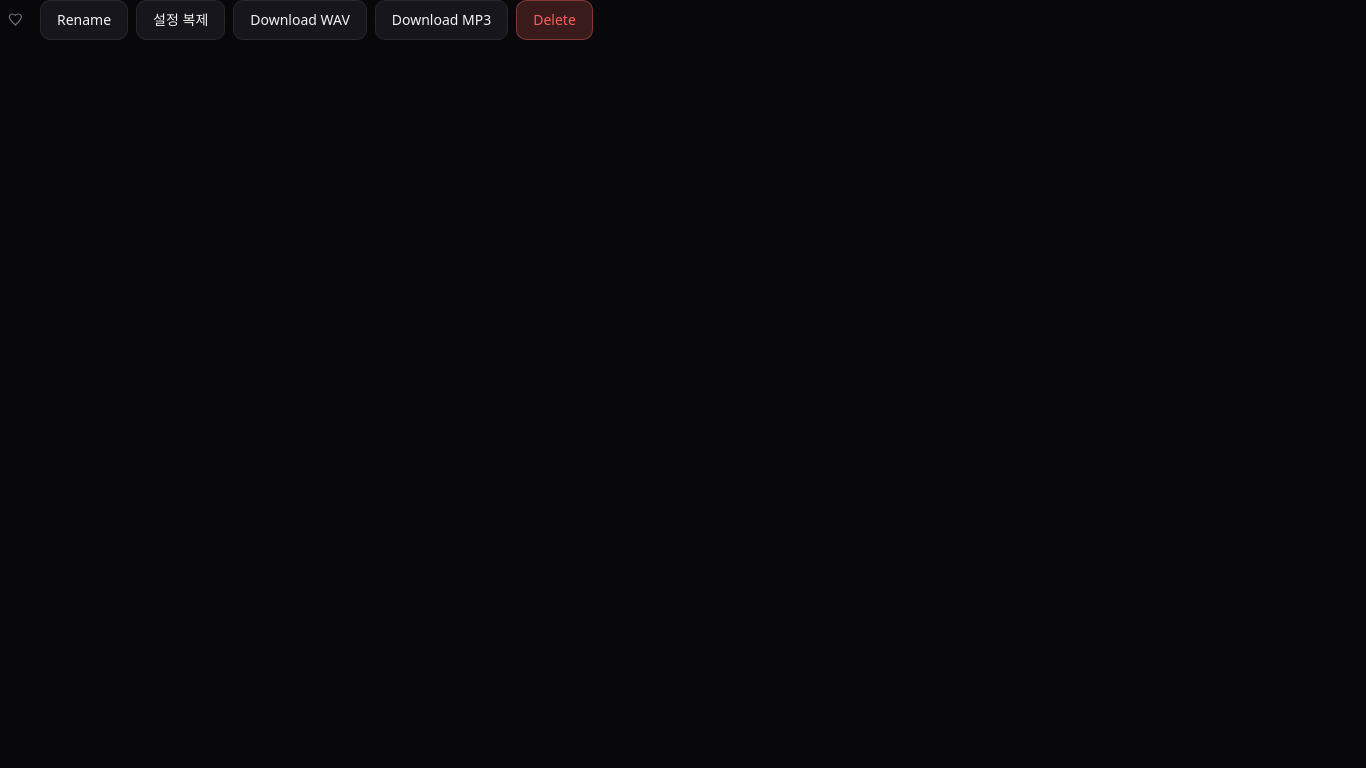
Test: deleting a song with derived versions › says why, and does not pretend the song is gone
Click the button "Delete".
click(554, 20)  # box [516, 0, 593, 40]
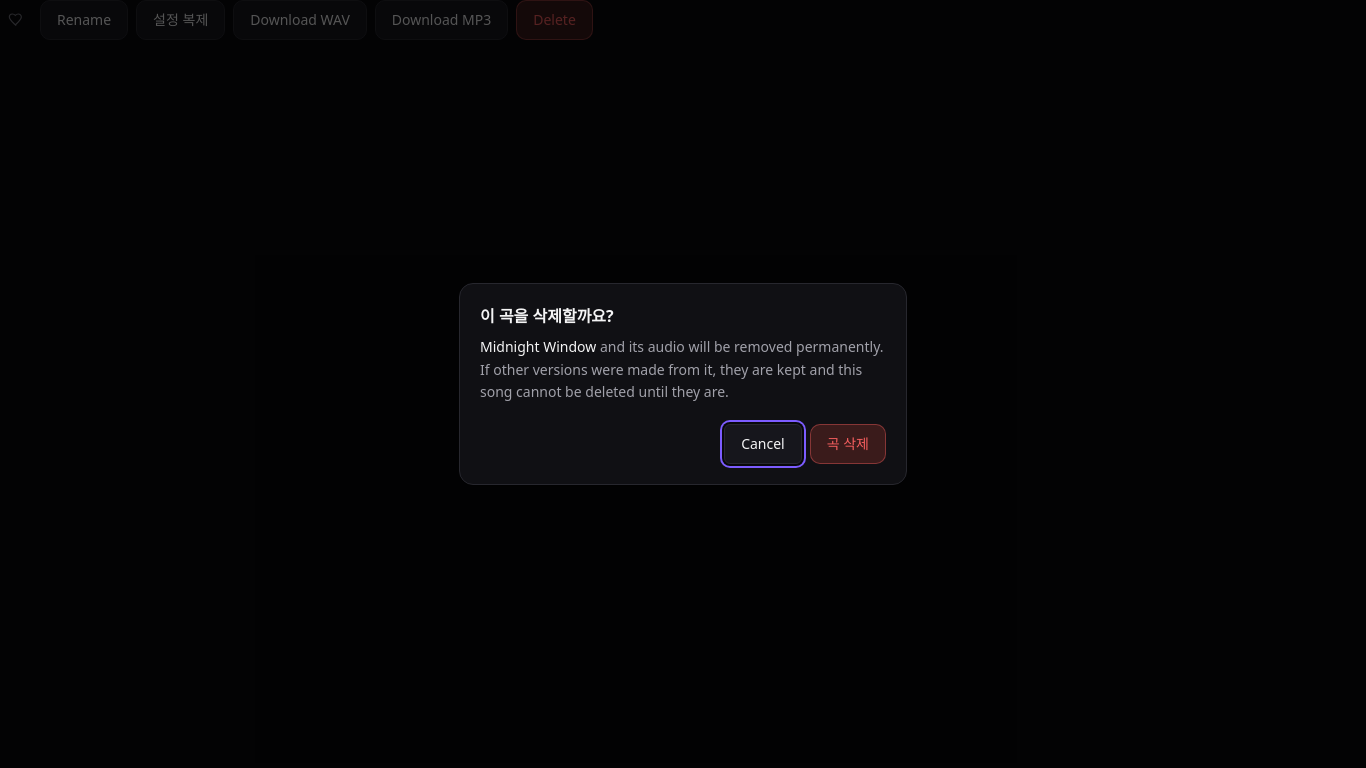
Click the button "곡 삭제".
click(848, 444)  # box [810, 424, 886, 464]
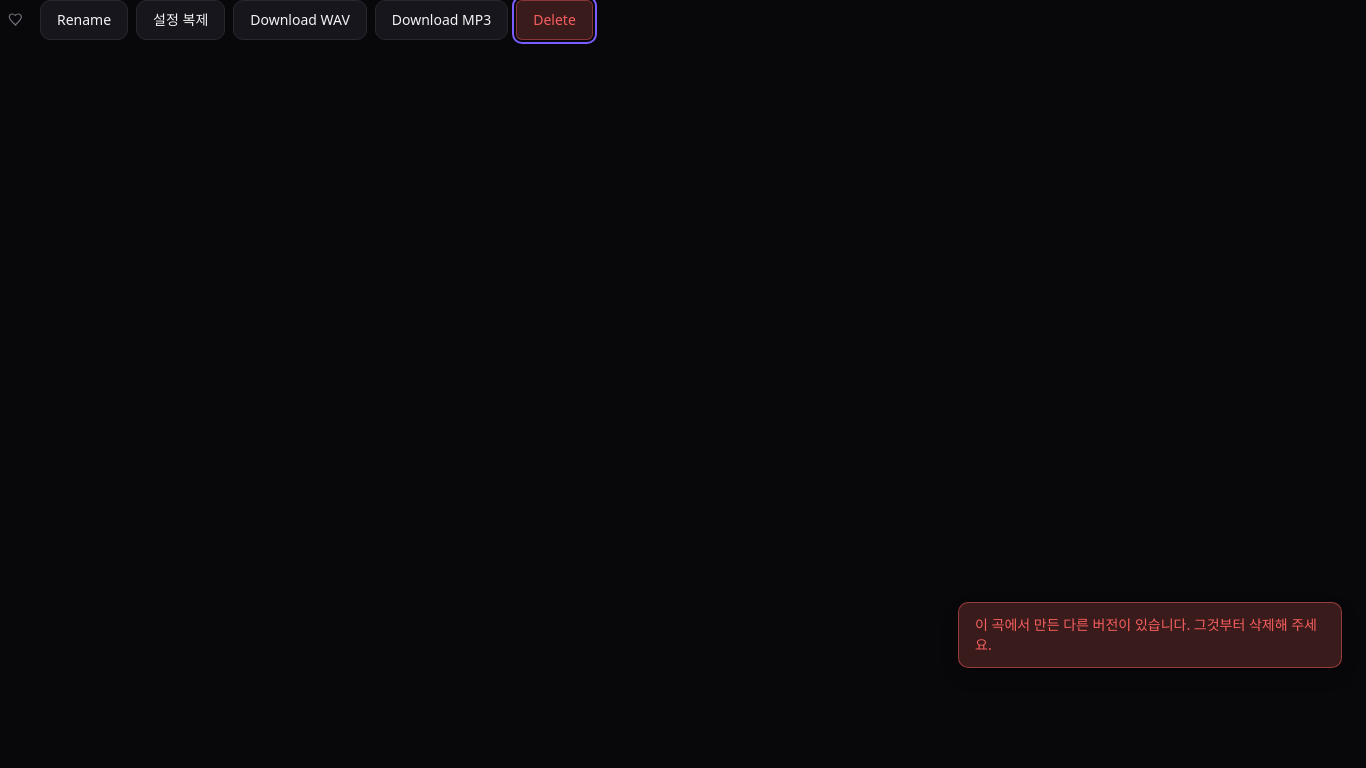
Now the button "이 곡에서 만든 다른 버전이 있습니다. 그것부터 삭제해 주세요." is shown, box [958, 602, 1342, 668]
